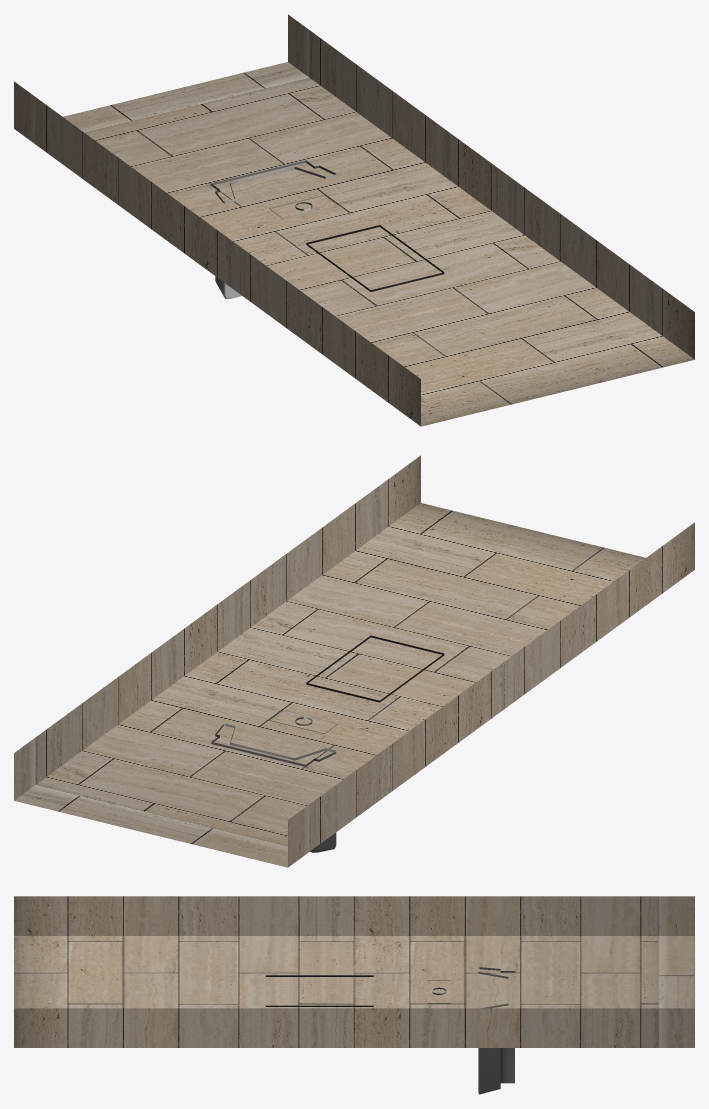
File: sink.obj
3 views of the same model, one above another, from view 1: azimuth 30°, elevation 25°; view 2: azimuth 150°, elevation 25°; view 3: azimuth 270°, elevation 25° (orthographic). The views are drawn at different scales.
Visible parts, largest first — view 1: Wall, sink; view 2: Wall, sink; view 3: Wall, sink.
Part boxes in pixels (left/top/right/bottom): Wall: left=14, top=14, right=694, bottom=426; sink: left=211, top=154, right=444, bottom=298; Wall: left=14, top=455, right=694, bottom=867; sink: left=211, top=635, right=444, bottom=852; Wall: left=14, top=896, right=694, bottom=1047; sink: left=265, top=967, right=552, bottom=1094.
Bounding box in the file's own units: 117 × 58.86 × 300.
2 materials, 2 textured.
